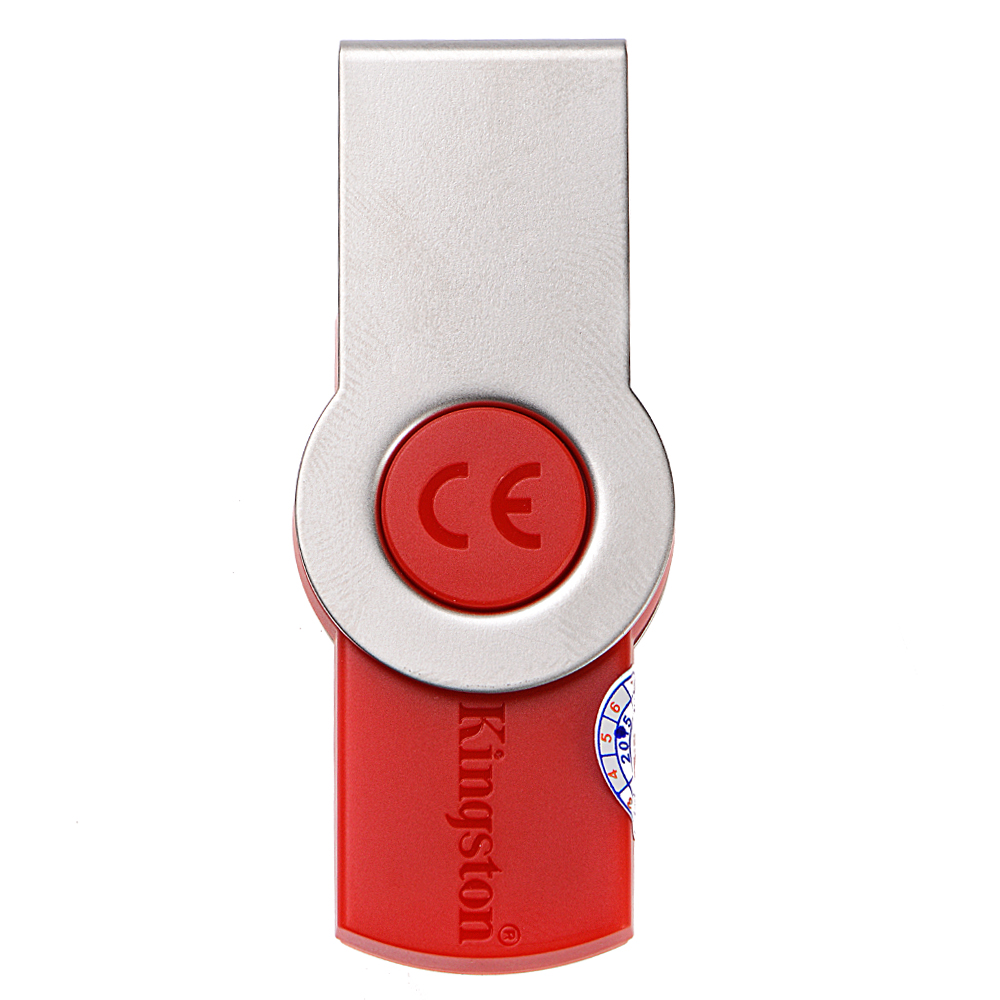Kingston: (442, 684, 533, 954)
